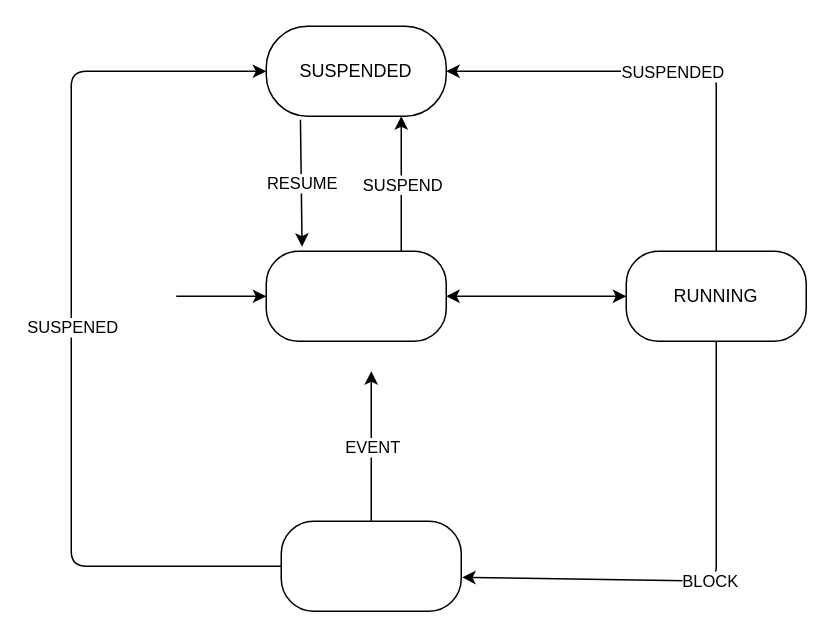
This 833x638 diagram has some shape labels left out. Each missing label, with the box of its shape:
BLOCKED: (280, 520, 461, 611)
READY: (265, 250, 446, 341)
